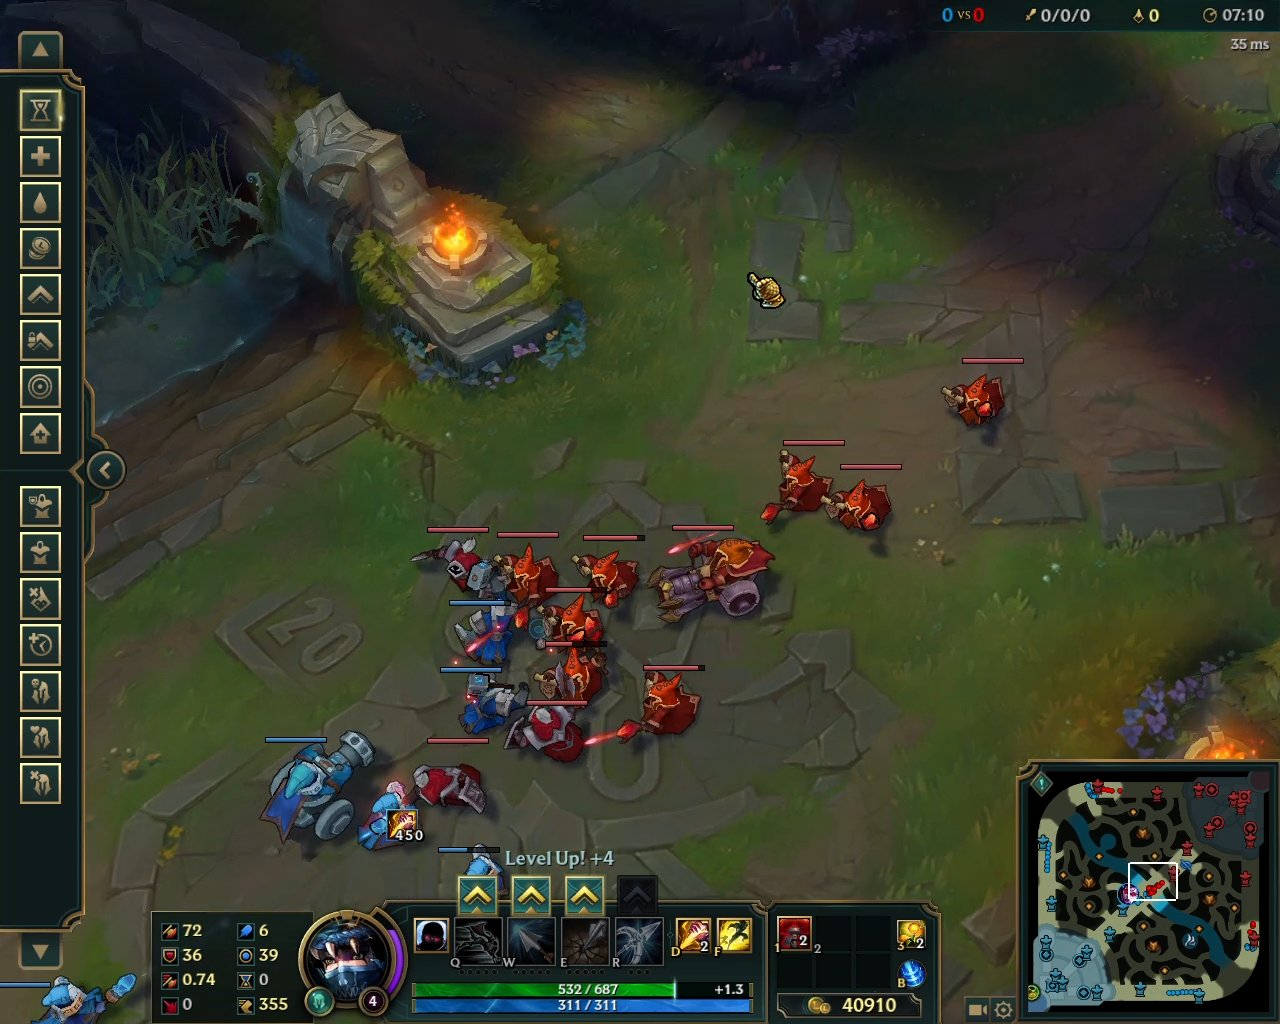EnemyMinion: (649, 523, 779, 630), (604, 664, 709, 750), (396, 736, 492, 822), (750, 440, 846, 525), (492, 530, 561, 629), (819, 462, 905, 538), (532, 637, 613, 717), (937, 358, 1024, 432), (538, 584, 607, 671), (501, 699, 591, 763), (573, 534, 647, 610), (411, 526, 492, 594)
